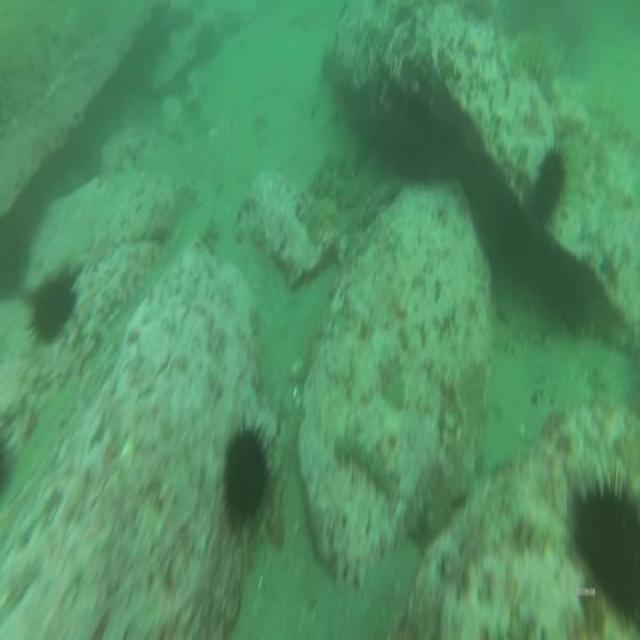echinus: (567, 453, 640, 640), (220, 400, 280, 540), (25, 264, 81, 349), (537, 136, 569, 213)
holothurian: (333, 427, 401, 507), (511, 24, 559, 104), (310, 161, 364, 210), (306, 198, 335, 244)
